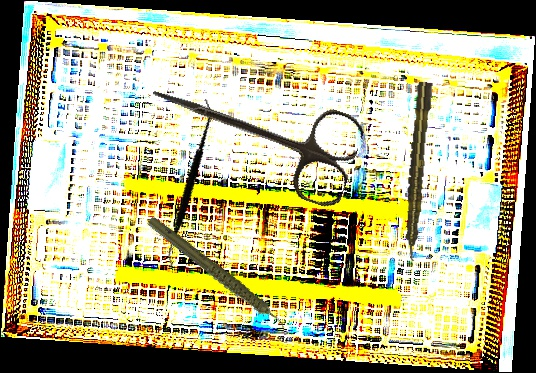Handpiece: (143, 191, 292, 361), (401, 81, 434, 262)
Iris Scissors: (136, 52, 368, 211)
Spatula Surgical: (125, 98, 252, 269)
